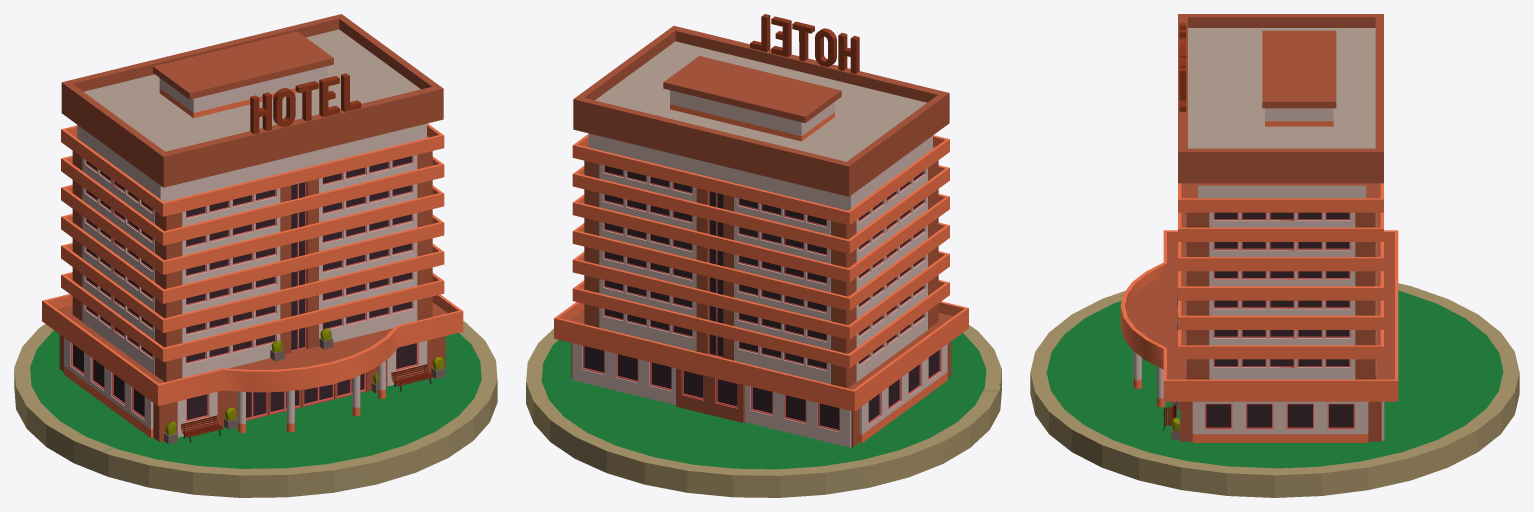
Rendered from hotel.fbx.
The picture shows the model from 3 angles, left to right: view 1: azimuth 30°, elevation 25°; view 2: azimuth 150°, elevation 25°; view 3: azimuth 270°, elevation 25°; orthographic projection. The views are drawn at different scales.
Parts seen in each view (by area): view 1: hotel, island; view 2: hotel, island; view 3: hotel, island.
Part boxes in pixels (<box>): hotel: <box>42,14,463,444</box>; island: <box>14,321,497,497</box>; hotel: <box>554,14,968,447</box>; island: <box>526,325,1001,497</box>; hotel: <box>1120,14,1398,442</box>; island: <box>1030,283,1519,497</box>.
Bounding box in the file's own units: 200 × 157 × 200.
2 materials, 2 textured.
